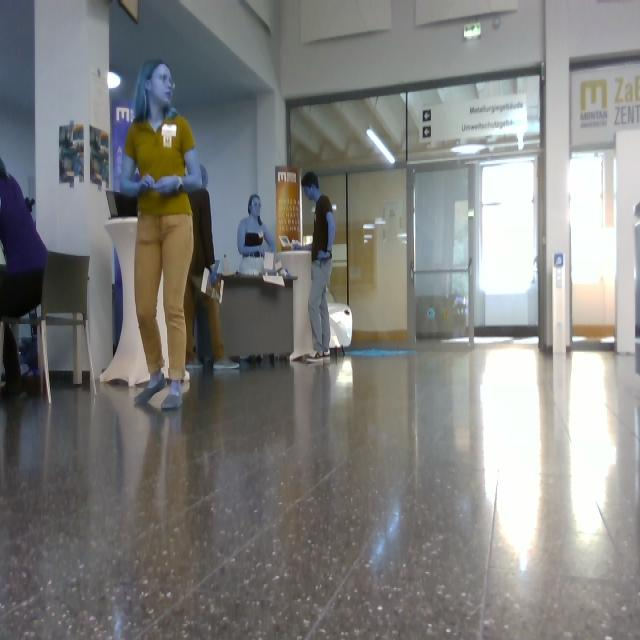desk: (220, 277, 297, 361)
door: (290, 74, 540, 346), (304, 196, 315, 238)
light bulb: (368, 129, 395, 165), (465, 24, 481, 40), (108, 72, 122, 90)
person: (121, 61, 202, 410), (185, 166, 224, 370), (1, 160, 48, 320), (300, 172, 336, 362), (238, 196, 274, 274), (6, 328, 23, 394)
pillar: (35, 1, 114, 378), (538, 1, 575, 354), (49, 326, 73, 370)
staircase: (635, 202, 640, 374)
table: (1, 253, 98, 407), (101, 218, 149, 386), (281, 252, 313, 360), (157, 281, 169, 376)
tiled floor: (1, 346, 640, 640)
